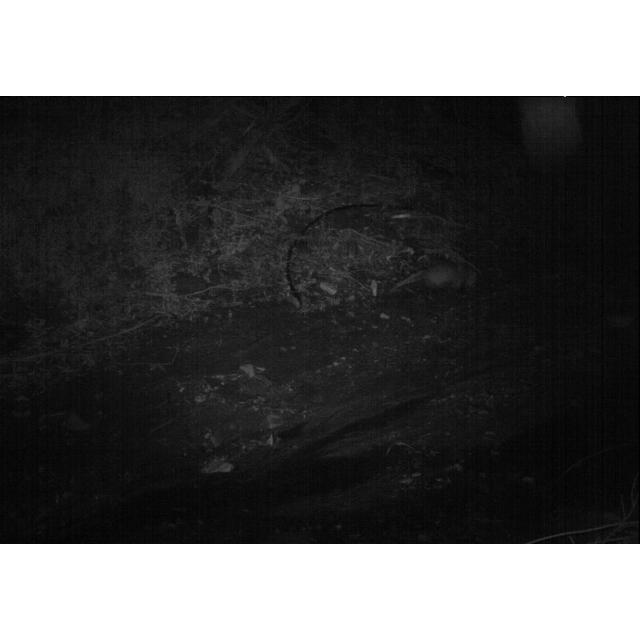animals: (388, 258, 482, 298)
